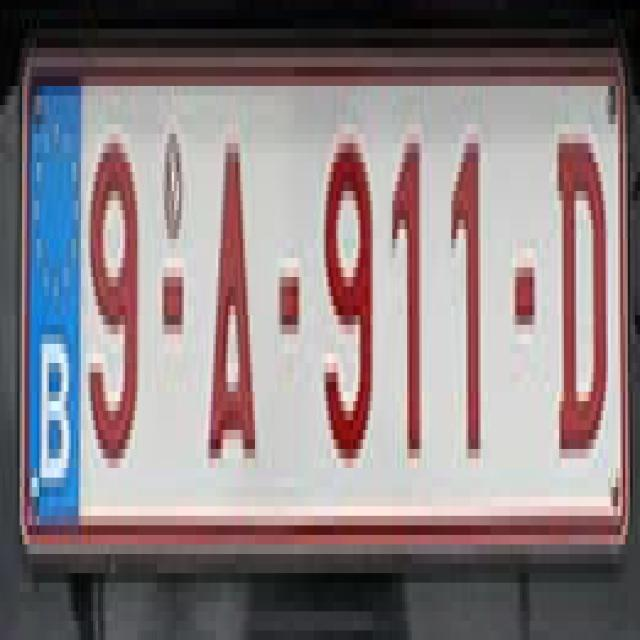Belgique: (28, 77, 82, 525)
EU: (20, 30, 626, 548)
